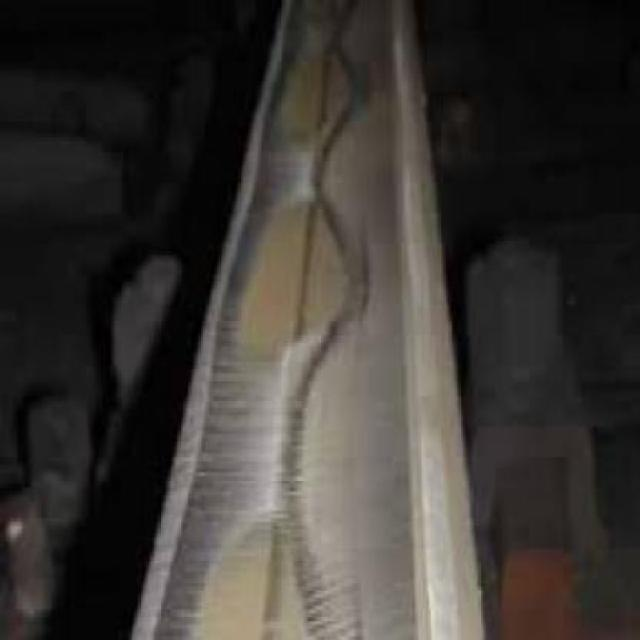defective: (150, 0, 485, 640)
